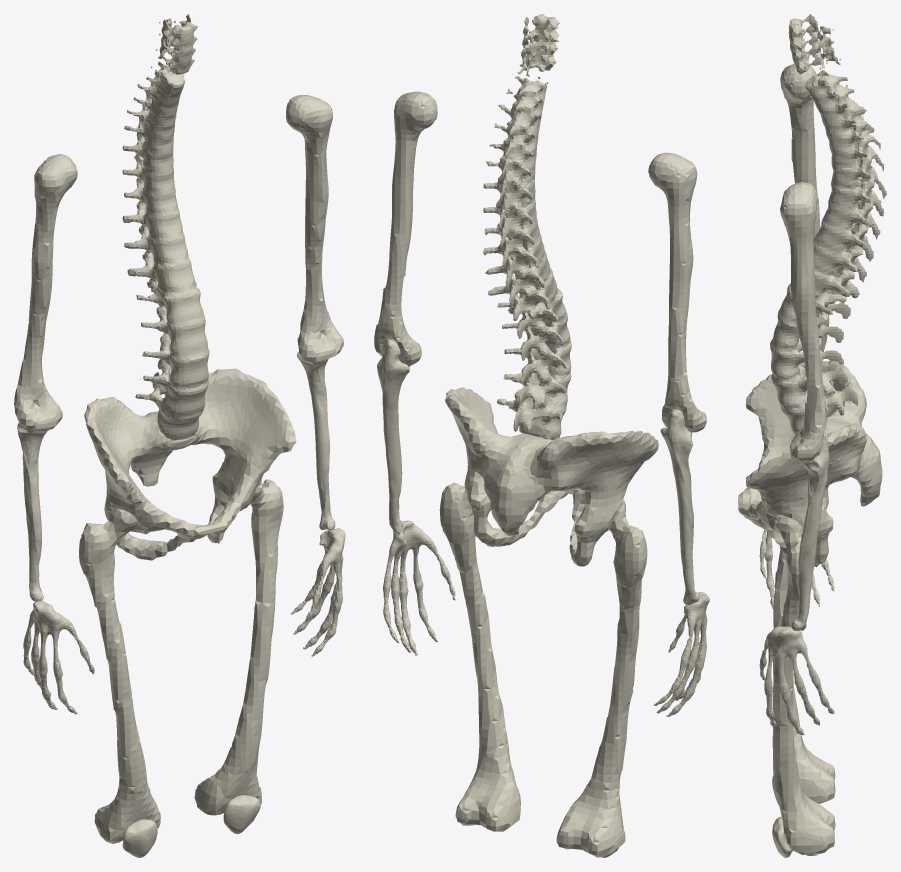
File: skelett_update_h.gltf
3 views of the same model, side by side, from view 1: azimuth 30°, elevation 25°; view 2: azimuth 150°, elevation 25°; view 3: azimuth 270°, elevation 25° (orthographic). The views are drawn at different scales.
Parts seen in each view (by area): view 1: Object_12, Object_5, Object_13, Object_9, Object_17, Object_10, Object_20; view 2: Object_13, Object_5, Object_12, Object_9, Object_17, Object_10; view 3: Object_5, Object_12, Object_9, Object_13, Object_17, Object_10, Object_20.
Part boxes in pixels (x1,y1,x2,y2): Object_12: [84, 368, 296, 560]; Object_5: [122, 14, 209, 440]; Object_13: [79, 479, 283, 843]; Object_9: [14, 95, 343, 429]; Object_17: [23, 528, 345, 714]; Object_10: [17, 351, 335, 601]; Object_20: [122, 795, 260, 857]; Object_13: [439, 482, 647, 857]; Object_5: [483, 14, 571, 439]; Object_12: [445, 387, 658, 566]; Object_9: [374, 91, 706, 432]; Object_17: [383, 520, 709, 716]; Object_10: [377, 339, 699, 604]; Object_5: [770, 14, 886, 435]; Object_12: [738, 360, 882, 566]; Object_9: [780, 64, 826, 461]; Object_13: [772, 515, 835, 855]; Object_17: [759, 529, 834, 735]; Object_10: [791, 318, 829, 630]; Object_20: [772, 776, 792, 857].
Size of the model in its own units: 1.87 by 4.54 by 0.7518.
